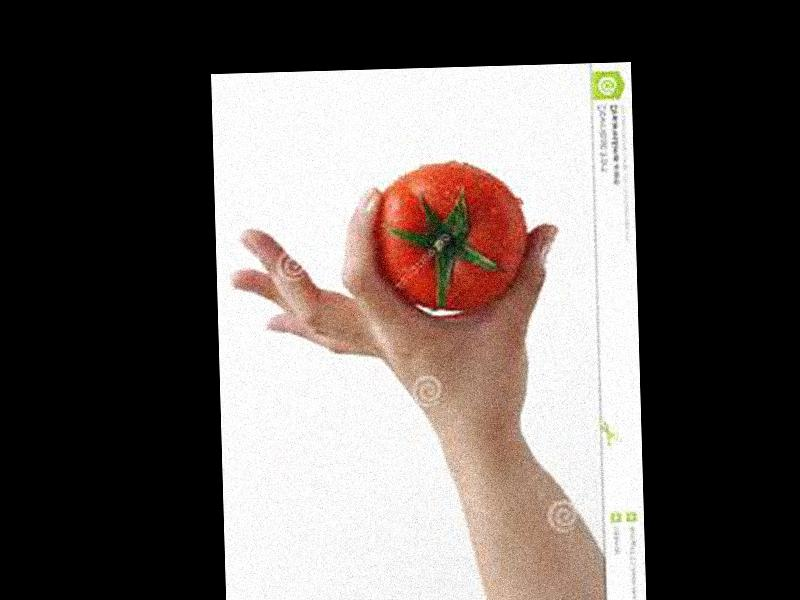Tomato: (371, 159, 528, 313)
